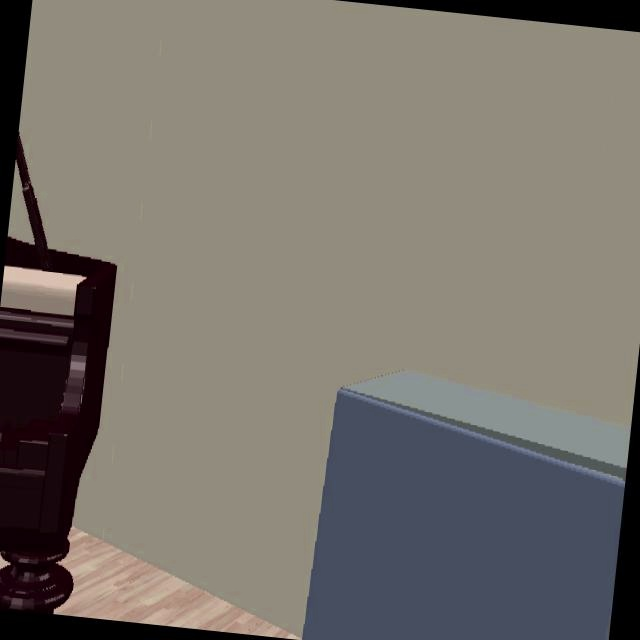cabinet: (303, 372, 630, 640)
